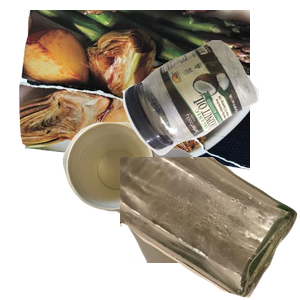glass: (120, 157, 300, 300)
paper: (16, 10, 256, 172)
plastic: (120, 37, 300, 185)
trash: (60, 120, 300, 300)
